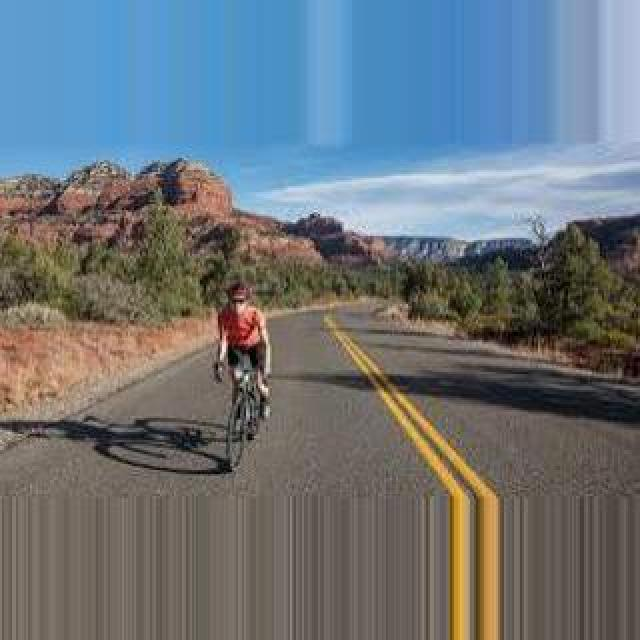MC-Bike: (214, 280, 272, 418)
Person: (213, 342, 271, 476)
